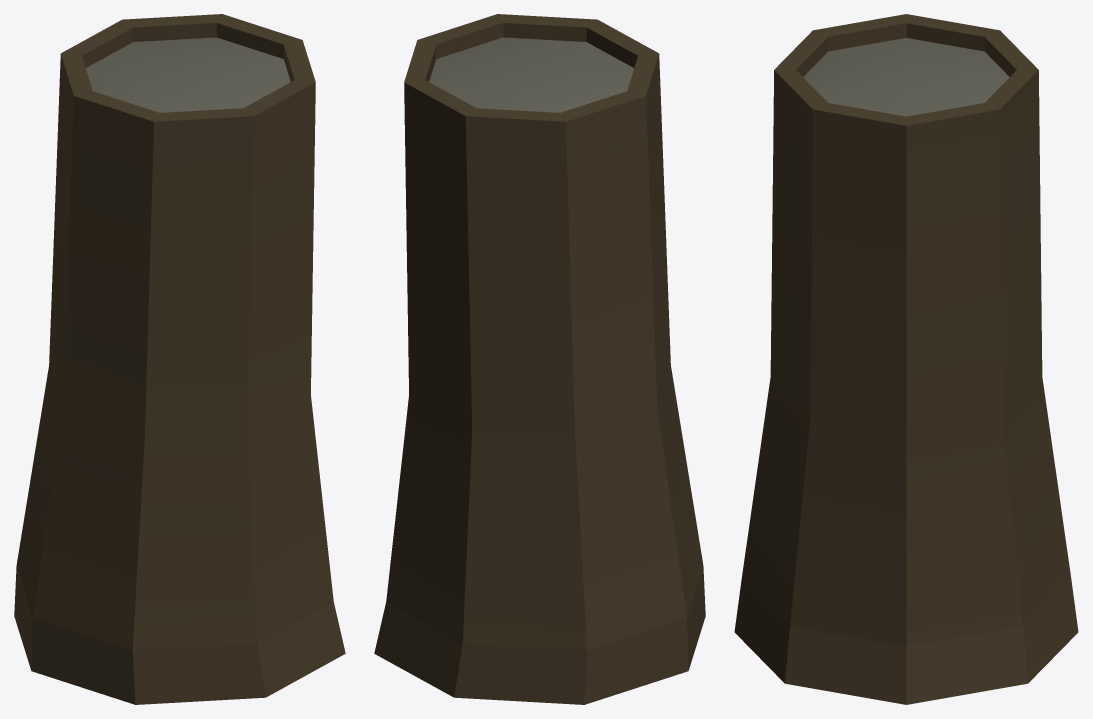
Rendered from Stump_Conifer_Tree.fbx.
3 views of the same model, side by side, from view 1: azimuth 30°, elevation 25°; view 2: azimuth 150°, elevation 25°; view 3: azimuth 270°, elevation 25° (orthographic).
Parts seen in each view (by area): view 1: polySurface1, polySurface2; view 2: polySurface1, polySurface2; view 3: polySurface1, polySurface2.
Boxes of the visible parts, box(x1,y1,x2,y2) form: polySurface1: box(14, 14, 345, 704); polySurface2: box(86, 37, 290, 112); polySurface1: box(374, 14, 705, 704); polySurface2: box(429, 37, 633, 112); polySurface1: box(734, 14, 1078, 704); polySurface2: box(803, 38, 1009, 116).
Bounding box in the file's own units: 66.35 × 121 × 66.35.
